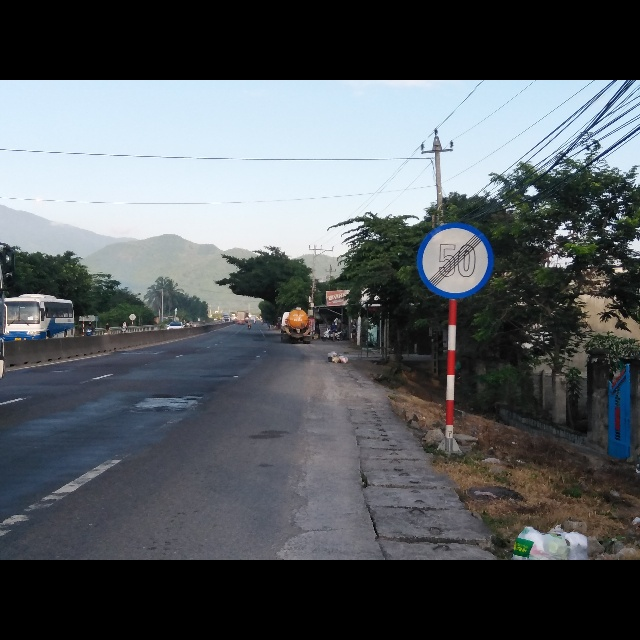Hết hạn chế tốc độ tối đa 50km/h: (415, 222, 495, 301)
